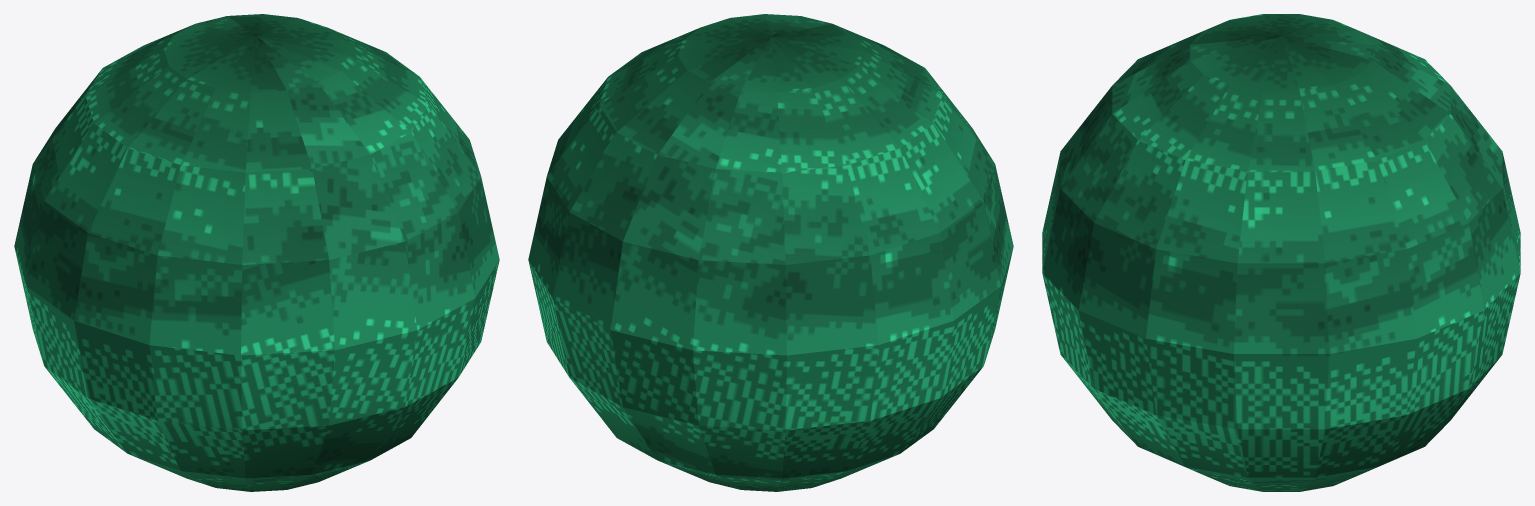
File: Planet4.fbx
3 renders of one model, left to right at view 1: azimuth 30°, elevation 25°; view 2: azimuth 150°, elevation 25°; view 3: azimuth 270°, elevation 25°, orthographic.
Parts seen in each view (by area): view 1: Planet4; view 2: Planet4; view 3: Planet4.
Part boxes in pixels (bbox=[...]): Planet4: bbox=[14, 14, 499, 491]; Planet4: bbox=[528, 14, 1013, 491]; Planet4: bbox=[1042, 14, 1520, 491].
Bounding box in the file's own units: 1088 × 1088 × 1088.
1 material, 1 textured.
